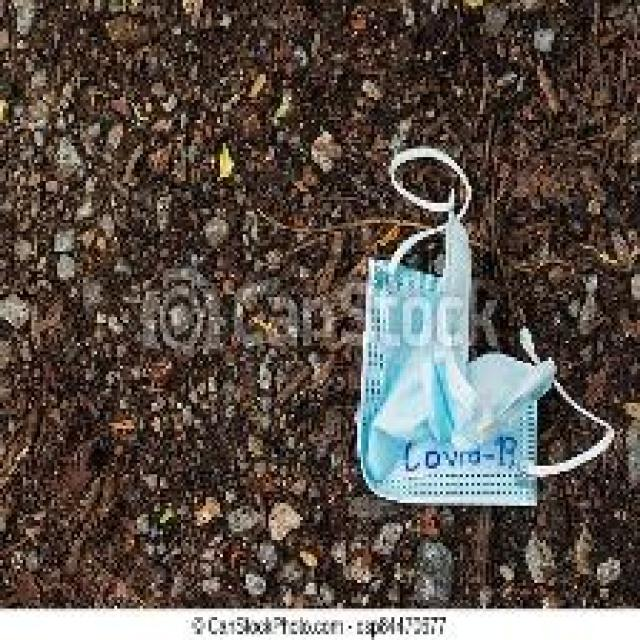Mask: (358, 204, 600, 531)
